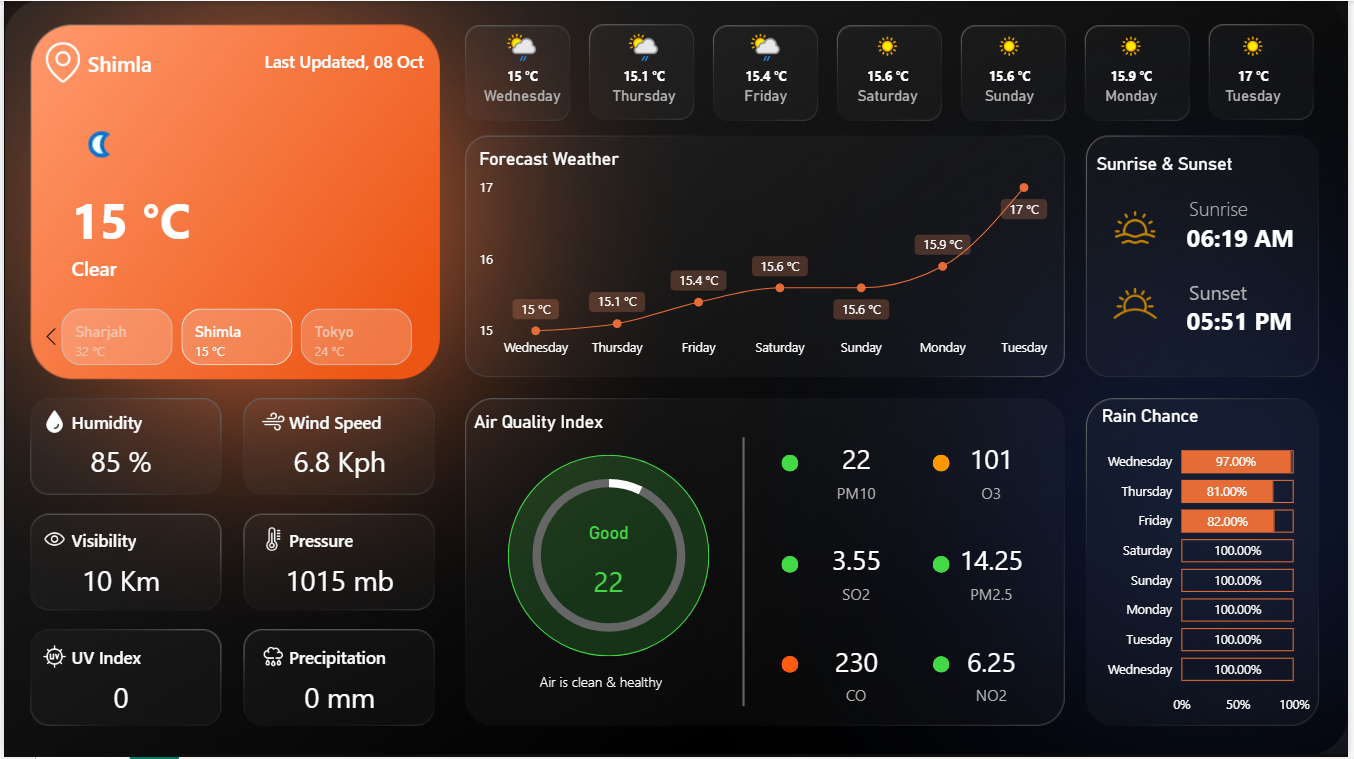

The page's visual inventory and layout, read from the dashboard file:
{"tool":"powerbi","page":{"name":"Page 1","canvas":[1280,720],"ordinal":0},"visuals":[{"type":"shape","box":[480,432,192,192],"z":0},{"type":"advancedSlicerVisual","fields":{"Values":["Locations.location.name"]},"box":[30,288,384,64],"z":1000},{"type":"shape","box":[64,160,224,96],"z":2000},{"type":"shape","box":[64,230,320,48],"z":3000},{"type":"shape","box":[80,35,160,48],"z":4000},{"type":"shape","box":[224,32,176,48],"z":5000},{"type":"image","box":[32,35,48,48],"z":6000},{"type":"cardVisual","fields":{"Data":["Min(Current.current.condition.icon)"]},"box":[32,80,112,96],"z":7000},{"type":"shape","box":[64,496,128,32],"z":8000},{"type":"image","box":[32,496,32,32],"z":9000},{"type":"image","box":[32,384,32,32],"z":10000},{"type":"shape","box":[64,384,128,32],"z":11000},{"type":"image","box":[32,608,32,32],"z":12000},{"type":"shape","box":[64,608,128,32],"z":13000},{"type":"image","box":[240,384,32,32],"z":14000},{"type":"image","box":[240,496,32,32],"z":15000},{"type":"image","box":[240,608,32,32],"z":16000},{"type":"shape","box":[272,384,128,32],"z":17000},{"type":"shape","box":[272,496,128,32],"z":18000},{"type":"shape","box":[272,608,128,32],"z":19000},{"type":"card","fields":{"Values":["View.Curr_Humidity"]},"box":[48,416,128,48],"z":20000},{"type":"card","fields":{"Values":["View.Curr_Wind_Speed"]},"box":[256,416,128,48],"z":21000},{"type":"card","fields":{"Values":["View.Curr_Visibility"]},"box":[48,528,128,48],"z":22000},{"type":"card","fields":{"Values":["View.Curr_Pressure"]},"box":[256,528,128,48],"z":23000},{"type":"card","fields":{"Values":["Sum(Current.current.uv)"]},"box":[48,640,128,48],"z":24000},{"type":"card","fields":{"Values":["View.Curr_Precipitation"]},"box":[256,640,128,48],"z":25000},{"type":"advancedSlicerVisual","fields":{"Values":["Forecast_Day.Day_Name"]},"box":[435,20,816,96],"z":26000},{"type":"lineChart","title":"Forecast Weather","fields":{"Category":["Forecast_Day.Day_Name"],"Y":["Sum(Forecast_Day.forecast.forecastday.day.avgtemp_c)"]},"box":[448,140,560,208],"z":27000},{"type":"shape","box":[1040,138,192,32],"z":28000},{"type":"shape","box":[1129.2,180.5,144,32],"z":29000},{"type":"shape","box":[1126.1,288,128,32],"z":30000},{"type":"shape","box":[1126.1,208,128,32],"z":31000},{"type":"shape","box":[1129.2,260.5,144,32],"z":32000},{"type":"image","box":[1045,192,64,48],"z":33000},{"type":"image","box":[1045,256,64,64],"z":34000},{"type":"hundredPercentStackedBarChart","title":"Rain Chance","fields":{"Y":["Sum(Forecast_Day.forecast.forecastday.day.daily_chance_of_rain)","View.Left_Value_Rain"],"Category":["Forecast_Day.Day_Name"]},"box":[1040,384,208,304],"z":35000},{"type":"shape","box":[448,384,192,32],"z":36000},{"type":"card","fields":{"Values":["Sum(Current.current.air_quality.o3)"]},"box":[884.1,416,112,64],"z":37000},{"type":"card","fields":{"Values":["Sum(Current.current.air_quality.pm2_5)"]},"box":[884.1,512,112,64],"z":38000},{"type":"card","fields":{"Values":["Sum(Current.current.air_quality.no2)"]},"box":[884.1,608,112,64],"z":39000},{"type":"card","fields":{"Values":["Sum(Current.current.air_quality.co)"]},"box":[756.1,608,112,64],"z":40000},{"type":"card","fields":{"Values":["Sum(Current.current.air_quality.so2)"]},"box":[756.1,512,112,64],"z":41000},{"type":"card","fields":{"Values":["Sum(Current.current.air_quality.pm10)"]},"box":[756.1,416,112,64],"z":42000},{"type":"shape","box":[740.1,432,16,16],"z":43000},{"type":"shape","box":[884.1,432,16,16],"z":44000},{"type":"shape","box":[740.1,528,16,16],"z":45000},{"type":"shape","box":[884.1,528,16,16],"z":46000},{"type":"shape","box":[884.1,624,16,16],"z":47000},{"type":"shape","box":[608,416,192,256],"z":48000},{"type":"card","fields":{"Values":["Sum(Current.current.air_quality.pm10)"]},"box":[512,496,128,96],"z":49000},{"type":"donutChart","fields":{"Y":["Sum(Current.current.air_quality.pm10)","View.Left_Value_PM"]},"box":[464,432,224,192],"z":50000},{"type":"shape","box":[464,624,208,48],"z":51000},{"type":"shape","box":[741,624,16,16],"z":52000}]}

Visuals, with their boxes in screenshot pixels (x1, y1, x2, y2), scaled from the page's 1280x720 canvas onto the 1354x759 screenshot:
shape: {"left": 508, "top": 455, "right": 711, "bottom": 658}
advancedSlicerVisual - Locations.location.name: {"left": 32, "top": 304, "right": 438, "bottom": 371}
shape: {"left": 68, "top": 169, "right": 305, "bottom": 270}
shape: {"left": 68, "top": 242, "right": 406, "bottom": 293}
shape: {"left": 85, "top": 37, "right": 254, "bottom": 87}
shape: {"left": 237, "top": 34, "right": 423, "bottom": 84}
image: {"left": 34, "top": 37, "right": 85, "bottom": 87}
cardVisual - Min(Current.current.condition.icon): {"left": 34, "top": 84, "right": 152, "bottom": 186}
shape: {"left": 68, "top": 523, "right": 203, "bottom": 557}
image: {"left": 34, "top": 523, "right": 68, "bottom": 557}
image: {"left": 34, "top": 405, "right": 68, "bottom": 439}
shape: {"left": 68, "top": 405, "right": 203, "bottom": 439}
image: {"left": 34, "top": 641, "right": 68, "bottom": 675}
shape: {"left": 68, "top": 641, "right": 203, "bottom": 675}
image: {"left": 254, "top": 405, "right": 288, "bottom": 439}
image: {"left": 254, "top": 523, "right": 288, "bottom": 557}
image: {"left": 254, "top": 641, "right": 288, "bottom": 675}
shape: {"left": 288, "top": 405, "right": 423, "bottom": 439}
shape: {"left": 288, "top": 523, "right": 423, "bottom": 557}
shape: {"left": 288, "top": 641, "right": 423, "bottom": 675}
card - View.Curr_Humidity: {"left": 51, "top": 439, "right": 186, "bottom": 489}
card - View.Curr_Wind_Speed: {"left": 271, "top": 439, "right": 406, "bottom": 489}
card - View.Curr_Visibility: {"left": 51, "top": 557, "right": 186, "bottom": 607}
card - View.Curr_Pressure: {"left": 271, "top": 557, "right": 406, "bottom": 607}
card - Sum(Current.current.uv): {"left": 51, "top": 675, "right": 186, "bottom": 725}
card - View.Curr_Precipitation: {"left": 271, "top": 675, "right": 406, "bottom": 725}
advancedSlicerVisual - Forecast_Day.Day_Name: {"left": 460, "top": 21, "right": 1323, "bottom": 122}
"Forecast Weather" lineChart: {"left": 474, "top": 148, "right": 1066, "bottom": 367}
shape: {"left": 1100, "top": 145, "right": 1303, "bottom": 179}
shape: {"left": 1194, "top": 190, "right": 1347, "bottom": 224}
shape: {"left": 1191, "top": 304, "right": 1327, "bottom": 337}
shape: {"left": 1191, "top": 219, "right": 1327, "bottom": 253}
shape: {"left": 1194, "top": 275, "right": 1347, "bottom": 308}
image: {"left": 1105, "top": 202, "right": 1173, "bottom": 253}
image: {"left": 1105, "top": 270, "right": 1173, "bottom": 337}
"Rain Chance" hundredPercentStackedBarChart: {"left": 1100, "top": 405, "right": 1320, "bottom": 725}
shape: {"left": 474, "top": 405, "right": 677, "bottom": 439}
card - Sum(Current.current.air_quality.o3): {"left": 935, "top": 439, "right": 1054, "bottom": 506}
card - Sum(Current.current.air_quality.pm2_5): {"left": 935, "top": 540, "right": 1054, "bottom": 607}
card - Sum(Current.current.air_quality.no2): {"left": 935, "top": 641, "right": 1054, "bottom": 708}
card - Sum(Current.current.air_quality.co): {"left": 800, "top": 641, "right": 918, "bottom": 708}
card - Sum(Current.current.air_quality.so2): {"left": 800, "top": 540, "right": 918, "bottom": 607}
card - Sum(Current.current.air_quality.pm10): {"left": 800, "top": 439, "right": 918, "bottom": 506}
shape: {"left": 783, "top": 455, "right": 800, "bottom": 472}
shape: {"left": 935, "top": 455, "right": 952, "bottom": 472}
shape: {"left": 783, "top": 557, "right": 800, "bottom": 573}
shape: {"left": 935, "top": 557, "right": 952, "bottom": 573}
shape: {"left": 935, "top": 658, "right": 952, "bottom": 675}
shape: {"left": 643, "top": 439, "right": 846, "bottom": 708}
card - Sum(Current.current.air_quality.pm10): {"left": 542, "top": 523, "right": 677, "bottom": 624}
donutChart - Sum(Current.current.air_quality.pm10) x View.Left_Value_PM: {"left": 491, "top": 455, "right": 728, "bottom": 658}
shape: {"left": 491, "top": 658, "right": 711, "bottom": 708}
shape: {"left": 784, "top": 658, "right": 801, "bottom": 675}
